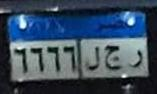6: (63, 45, 77, 71), (15, 47, 28, 74), (47, 46, 61, 71), (30, 47, 44, 72)
jeem: (104, 43, 123, 73)
laam: (85, 45, 102, 73)
raa: (129, 47, 145, 67)
